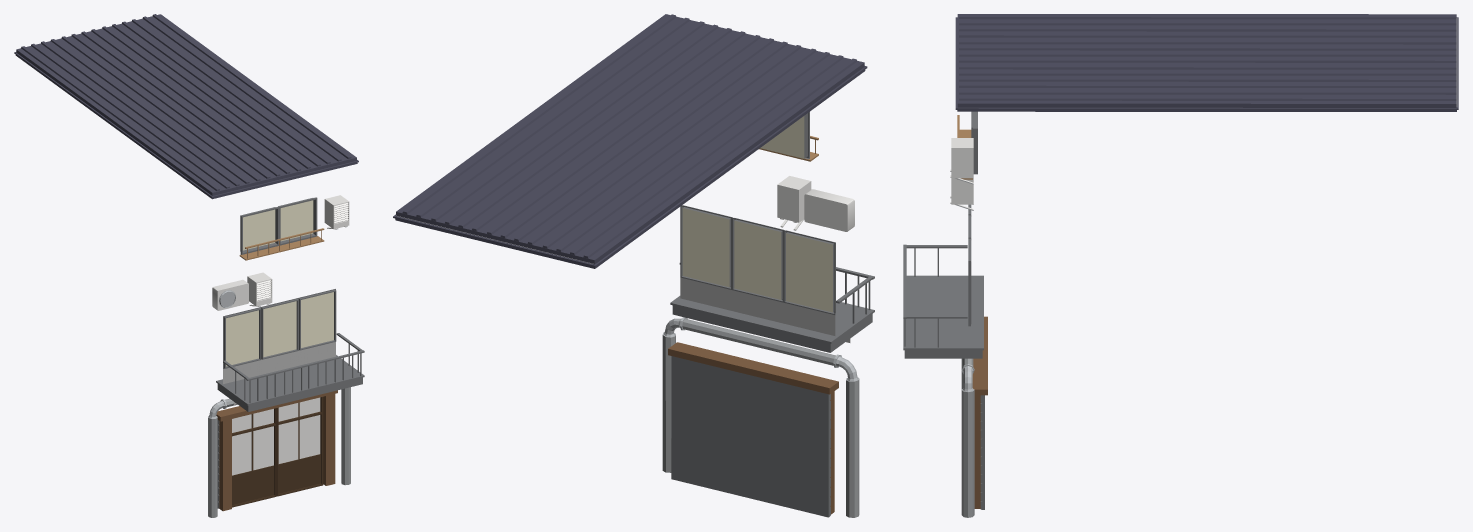
File: building3.fbx
The picture shows the model from 3 angles, left to right: view 1: azimuth 30°, elevation 25°; view 2: azimuth 150°, elevation 25°; view 3: azimuth 270°, elevation 25°; orthographic projection. The views are drawn at different scales.
Parts seen in each view (by area): view 1: Object026; view 2: Object026; view 3: Object026.
Boxes of the visible parts, x1=… form: Object026: x1=14, y1=14, x2=364, y2=517; Object026: x1=393, y1=14, x2=874, y2=517; Object026: x1=903, y1=14, x2=1458, y2=517.
Bounding box in the file's own units: 487 × 1039 × 1252.
